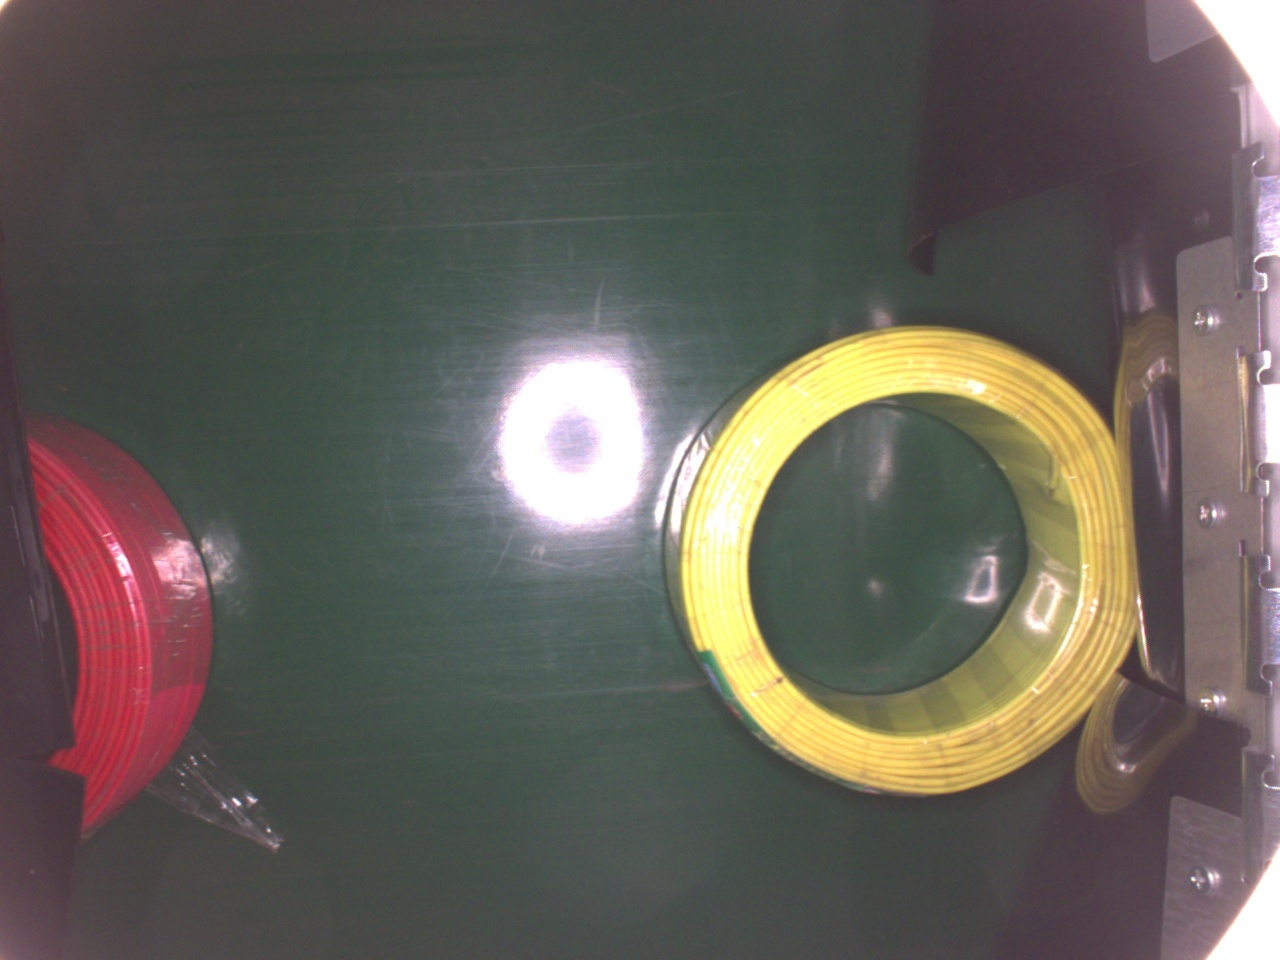red: (32, 411, 214, 843)
yellow: (661, 320, 1132, 797)
